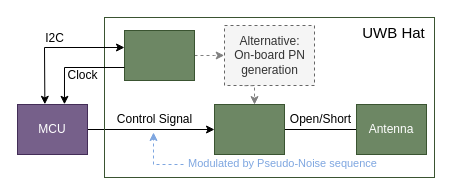
The diagram is 456 pixels wide and 196 high, and some of its shapes have lost their labels. Here are the shapes that lost their labels. From the top down, the centre of each, then its label:
the point at 159,55: RTC Clock ( 160 nA@3 V)
the point at 249,129: Switch (5 μA@3.3 V)
